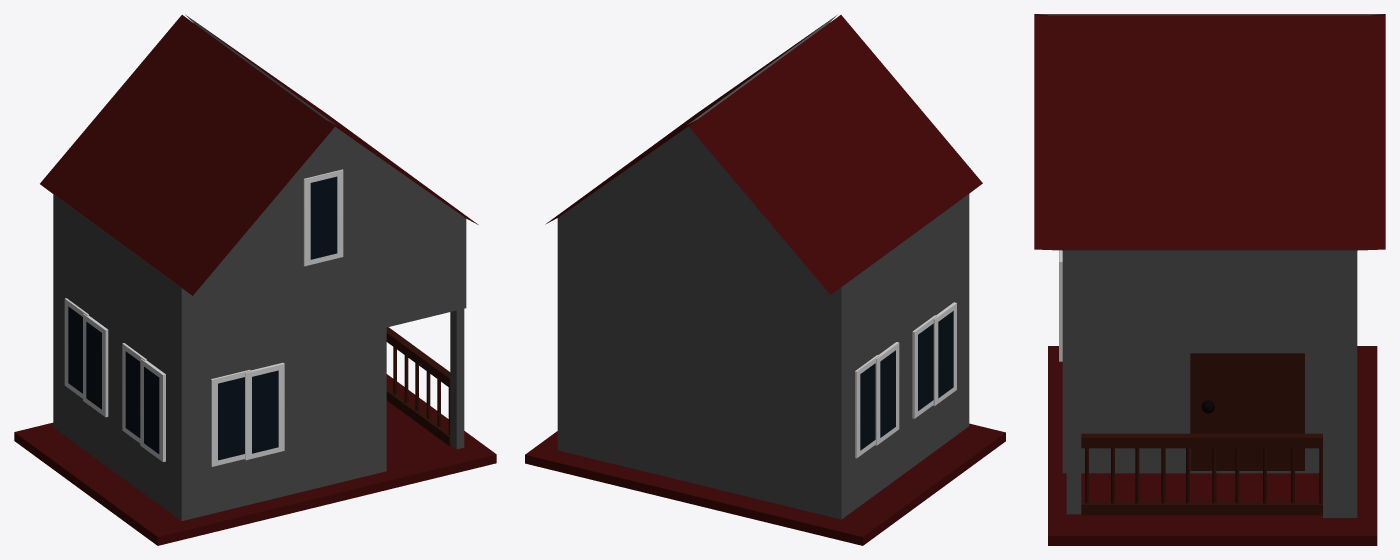
The model's file is unityev.fbx.
3 renders of one model, left to right at view 1: azimuth 30°, elevation 25°; view 2: azimuth 150°, elevation 25°; view 3: azimuth 270°, elevation 25°, orthographic. The views are drawn at different scales.
Parts seen in each view (by area): view 1: pCube14; view 2: pCube14; view 3: pCube14.
Part boxes in pixels (x1,y1,x2,y2): pCube14: (14, 14, 496, 545); pCube14: (525, 15, 1005, 545); pCube14: (1034, 14, 1385, 545).
Size of the model in its own units: 16.81 by 18.1 by 13.15.
